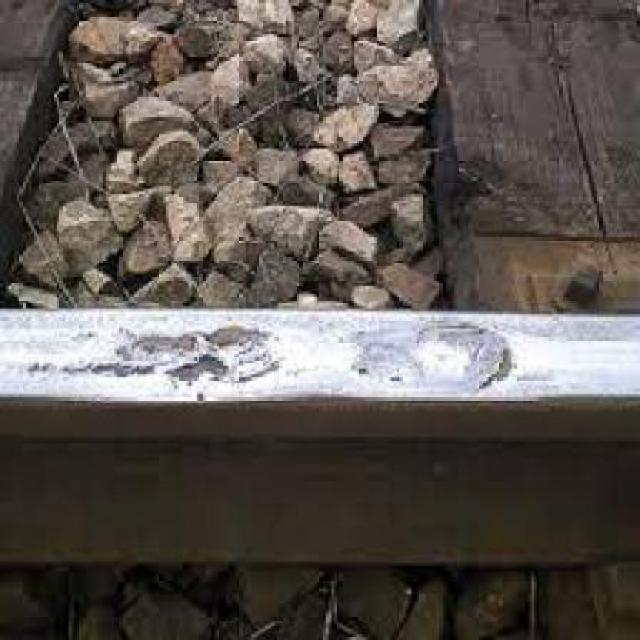defective: (0, 276, 566, 518)
